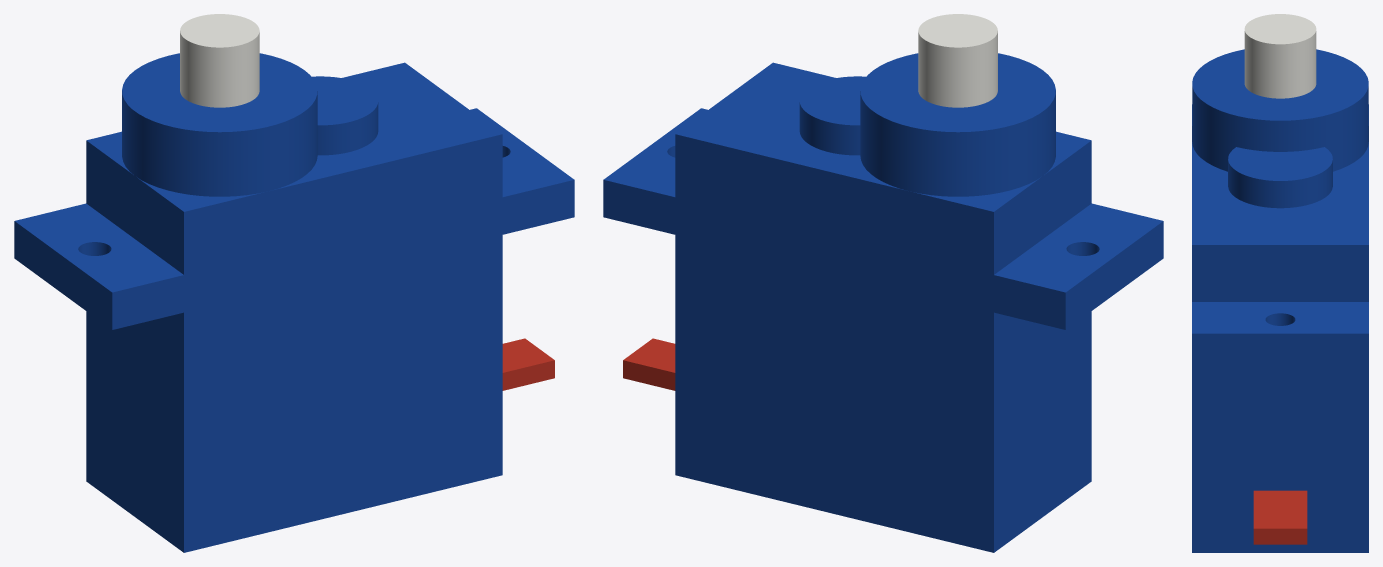
3 renders of one model, left to right at view 1: azimuth 30°, elevation 25°; view 2: azimuth 150°, elevation 25°; view 3: azimuth 270°, elevation 25°, orthographic. The views are drawn at different scales.
Visible parts, largest first — view 1: sg90; view 2: sg90; view 3: sg90.
Boxes of the visible parts, x1,y1,x2,y2 form: sg90: [14, 14, 574, 552]; sg90: [603, 14, 1163, 552]; sg90: [1192, 14, 1368, 552].
Size of the model in its own units: 33.2 by 31 by 11.8.
